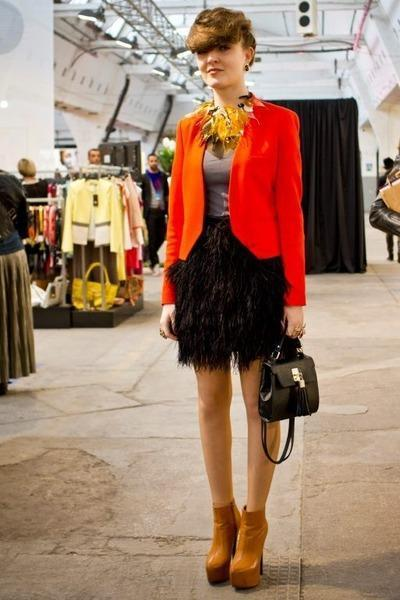bag: (257, 332, 318, 463)
jacket: (158, 99, 305, 306)
shirt: (192, 84, 263, 216)
shoe: (203, 502, 267, 593)
skirt: (166, 204, 288, 371)
